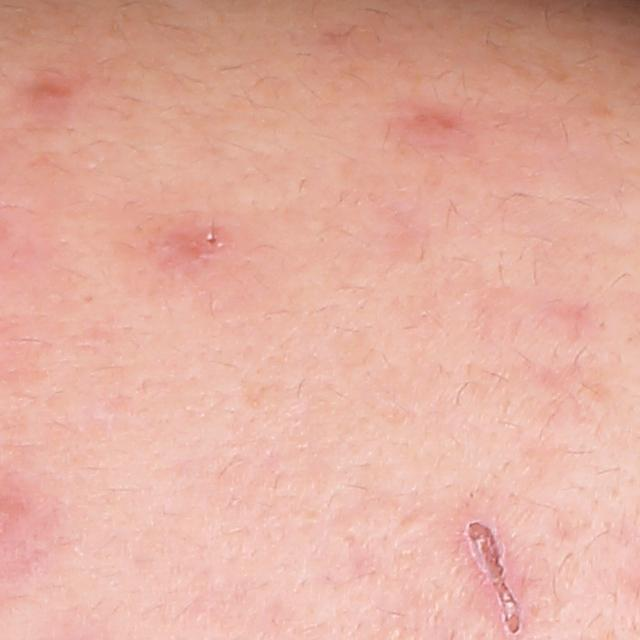papule: (32, 78, 78, 111)
